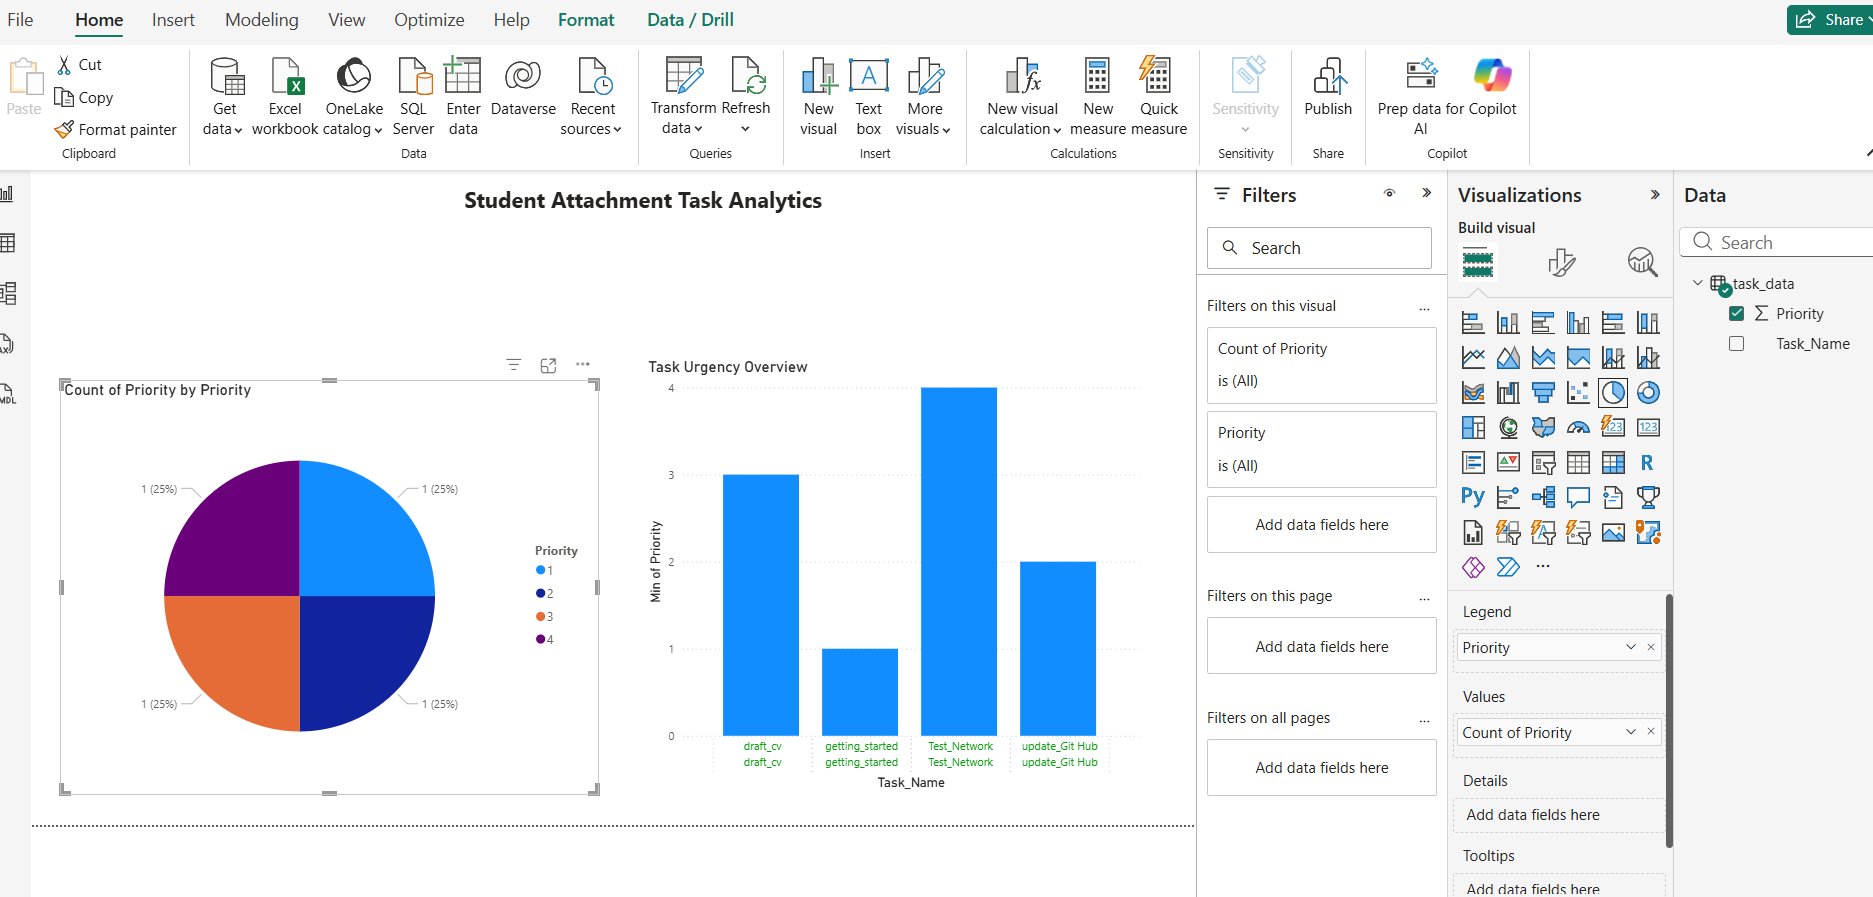

What the dashboard file says about the page in this screenshot:
{"tool":"powerbi","page":{"name":"Page 1","canvas":[1280,720],"ordinal":0},"visuals":[{"type":"clusteredColumnChart","title":"Task Urgency Overview","fields":{"Category":["task_data.Task_Name","task_data.Task_Name"],"Y":["Min(task_data.Priority)"]},"box":[673.8,205.8,548.9,480.3],"z":0},{"type":"pieChart","fields":{"Category":["task_data.Priority"],"Y":["CountNonNull(task_data.Priority)"]},"box":[32.9,230.5,591.4,455.6],"z":1},{"type":"textbox","title":"Student Attachment Task Analytics","box":[190.7,11,964.7,194.9],"z":2}]}

Visuals, with their boxes on the page's 1280x720 design canvas (x1, y1, x2, y2). These are canvas units, not pixel positions in the 1873x897 screenshot, which may show the page scaled, cropped or inside an application window:
"Task Urgency Overview" clusteredColumnChart: 674/206/1223/686
pieChart - task_data.Priority x CountNonNull(task_data.Priority): 33/230/624/686
"Student Attachment Task Analytics" textbox: 191/11/1155/206
